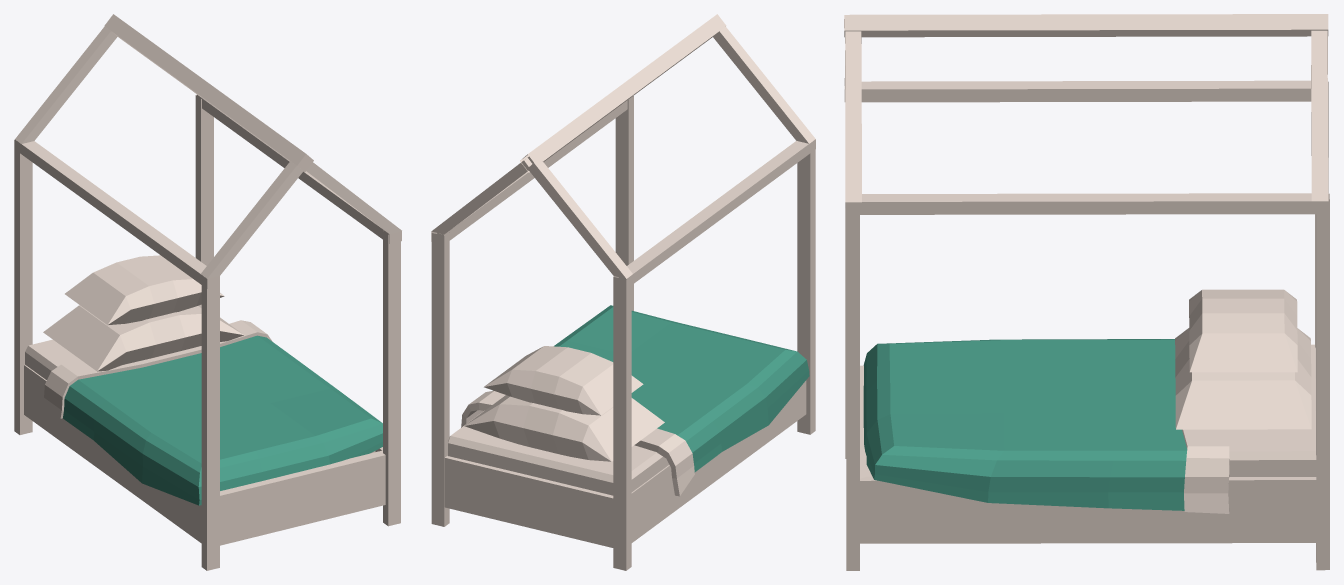
File: Bed_3.fbx
3 renders of one model, left to right at view 1: azimuth 30°, elevation 25°; view 2: azimuth 150°, elevation 25°; view 3: azimuth 270°, elevation 25°, orthographic. The views are drawn at different scales.
Visible parts, largest first — view 1: Bed_3; view 2: Bed_3; view 3: Bed_3.
Part boxes in pixels (<box>): Bed_3: <box>14,14,401,570</box>; Bed_3: <box>431,14,815,570</box>; Bed_3: <box>844,14,1329,570</box>.
Bounding box in the file's own units: 168 × 252 × 285.
